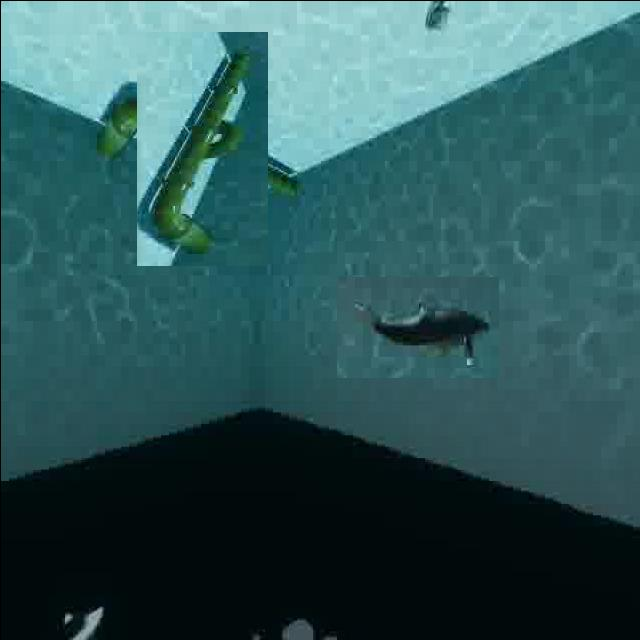Pipe: (110, 56, 292, 240)
Shell: (414, 0, 465, 47)
Whale: (336, 276, 498, 377)
